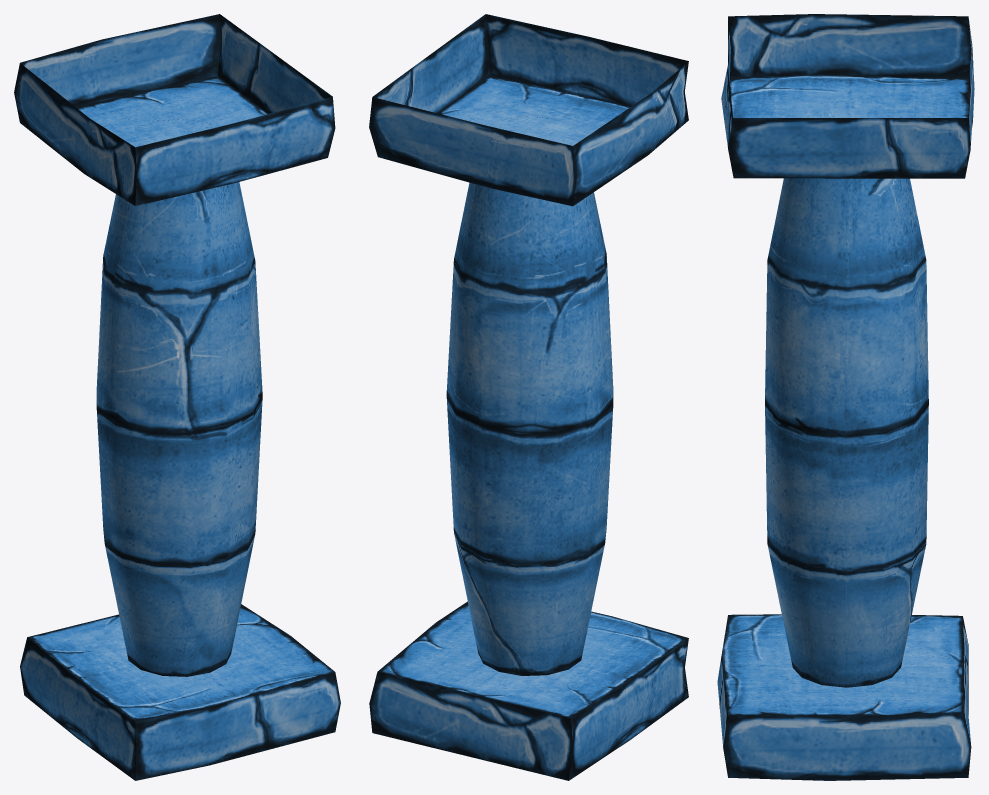
File: Temple_Pilar_MOD.fbx
3 views of the same model, side by side, from view 1: azimuth 30°, elevation 25°; view 2: azimuth 150°, elevation 25°; view 3: azimuth 270°, elevation 25° (orthographic). The views are drawn at different scales.
Visible parts, largest first — view 1: Temple_Pilar_MOD; view 2: Temple_Pilar_MOD; view 3: Temple_Pilar_MOD.
Boxes of the visible parts, <box> form: Temple_Pilar_MOD: <box>14,14,340,780</box>; Temple_Pilar_MOD: <box>369,14,688,780</box>; Temple_Pilar_MOD: <box>717,14,974,780</box>.
Size of the model in its own units: 2.14 by 6.08 by 2.14.
Materials: 1 (1 with a texture image).
